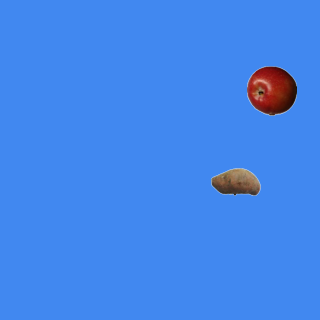Apple Braeburn: (246, 65, 296, 115)
Potato Sweet: (210, 156, 260, 206)
